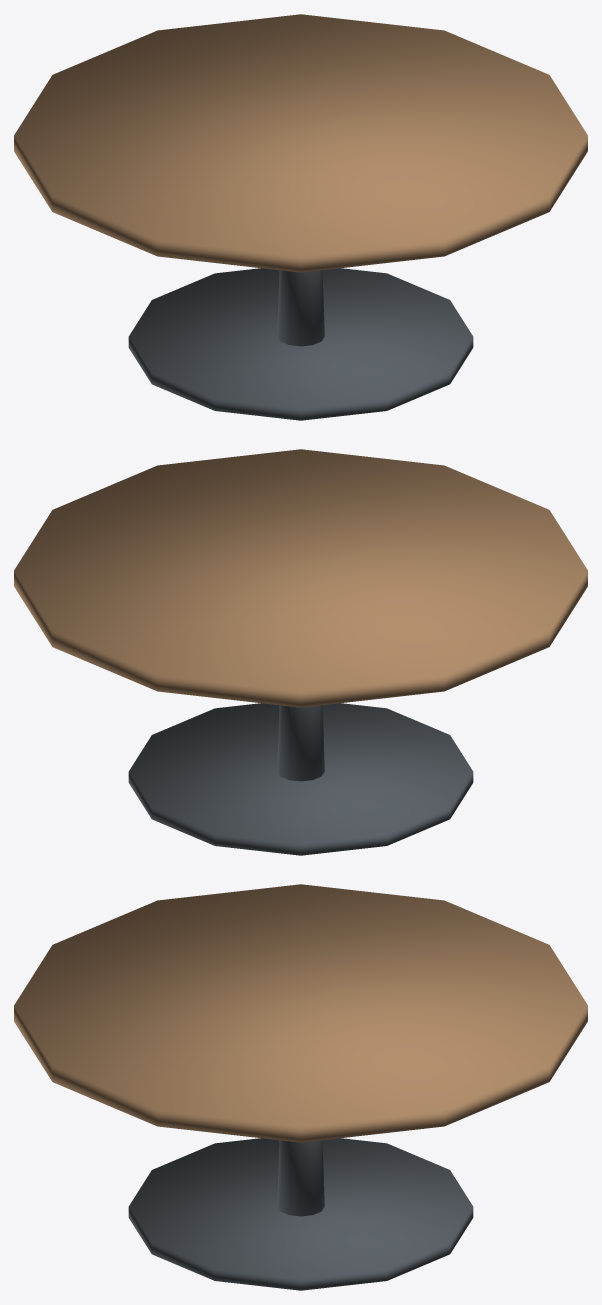
Rendered from atelier-round-dining-table.glb.
3 views of the same model, one above another, from view 1: azimuth 30°, elevation 25°; view 2: azimuth 150°, elevation 25°; view 3: azimuth 270°, elevation 25° (orthographic).
Visible parts, largest first — view 1: legs.058, metal.016; view 2: legs.058, metal.016; view 3: legs.058, metal.016.
Boxes of the visible parts, left/top/right/bottom form: legs.058: left=14, top=14, right=587, bottom=272; metal.016: left=128, top=268, right=473, bottom=420; legs.058: left=14, top=449, right=587, bottom=707; metal.016: left=128, top=703, right=473, bottom=855; legs.058: left=14, top=884, right=587, bottom=1142; metal.016: left=128, top=1138, right=473, bottom=1290.
Size of the model in its own units: 1.8 by 0.735 by 1.8.
